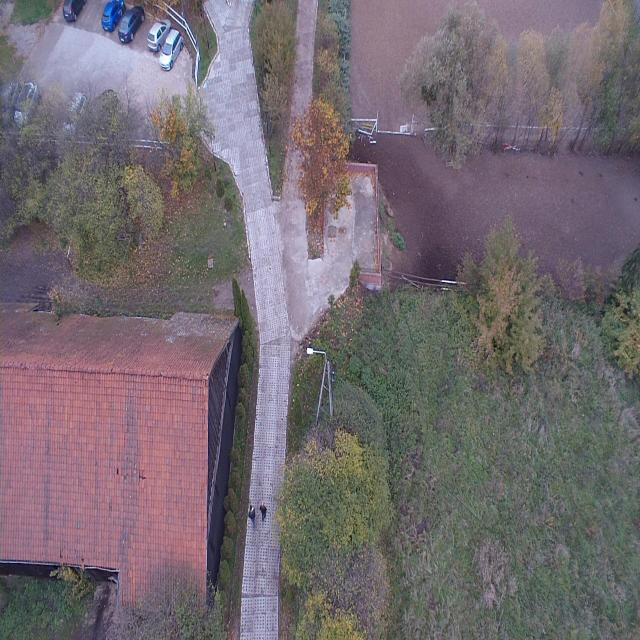p3rson: (248, 506, 256, 528), (260, 503, 267, 523)
